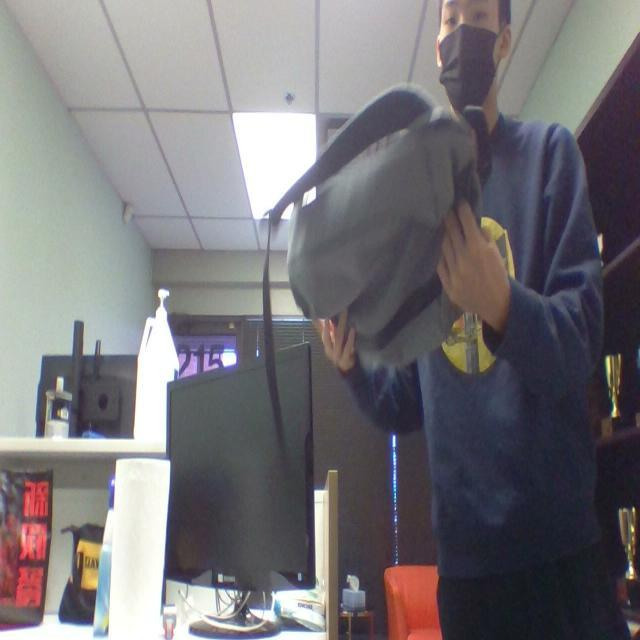Backpacks: (287, 80, 476, 371)
